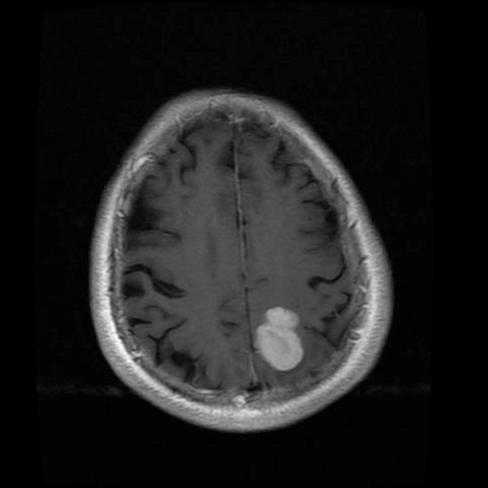Tumour-Pituitary: (222, 296, 310, 380)
